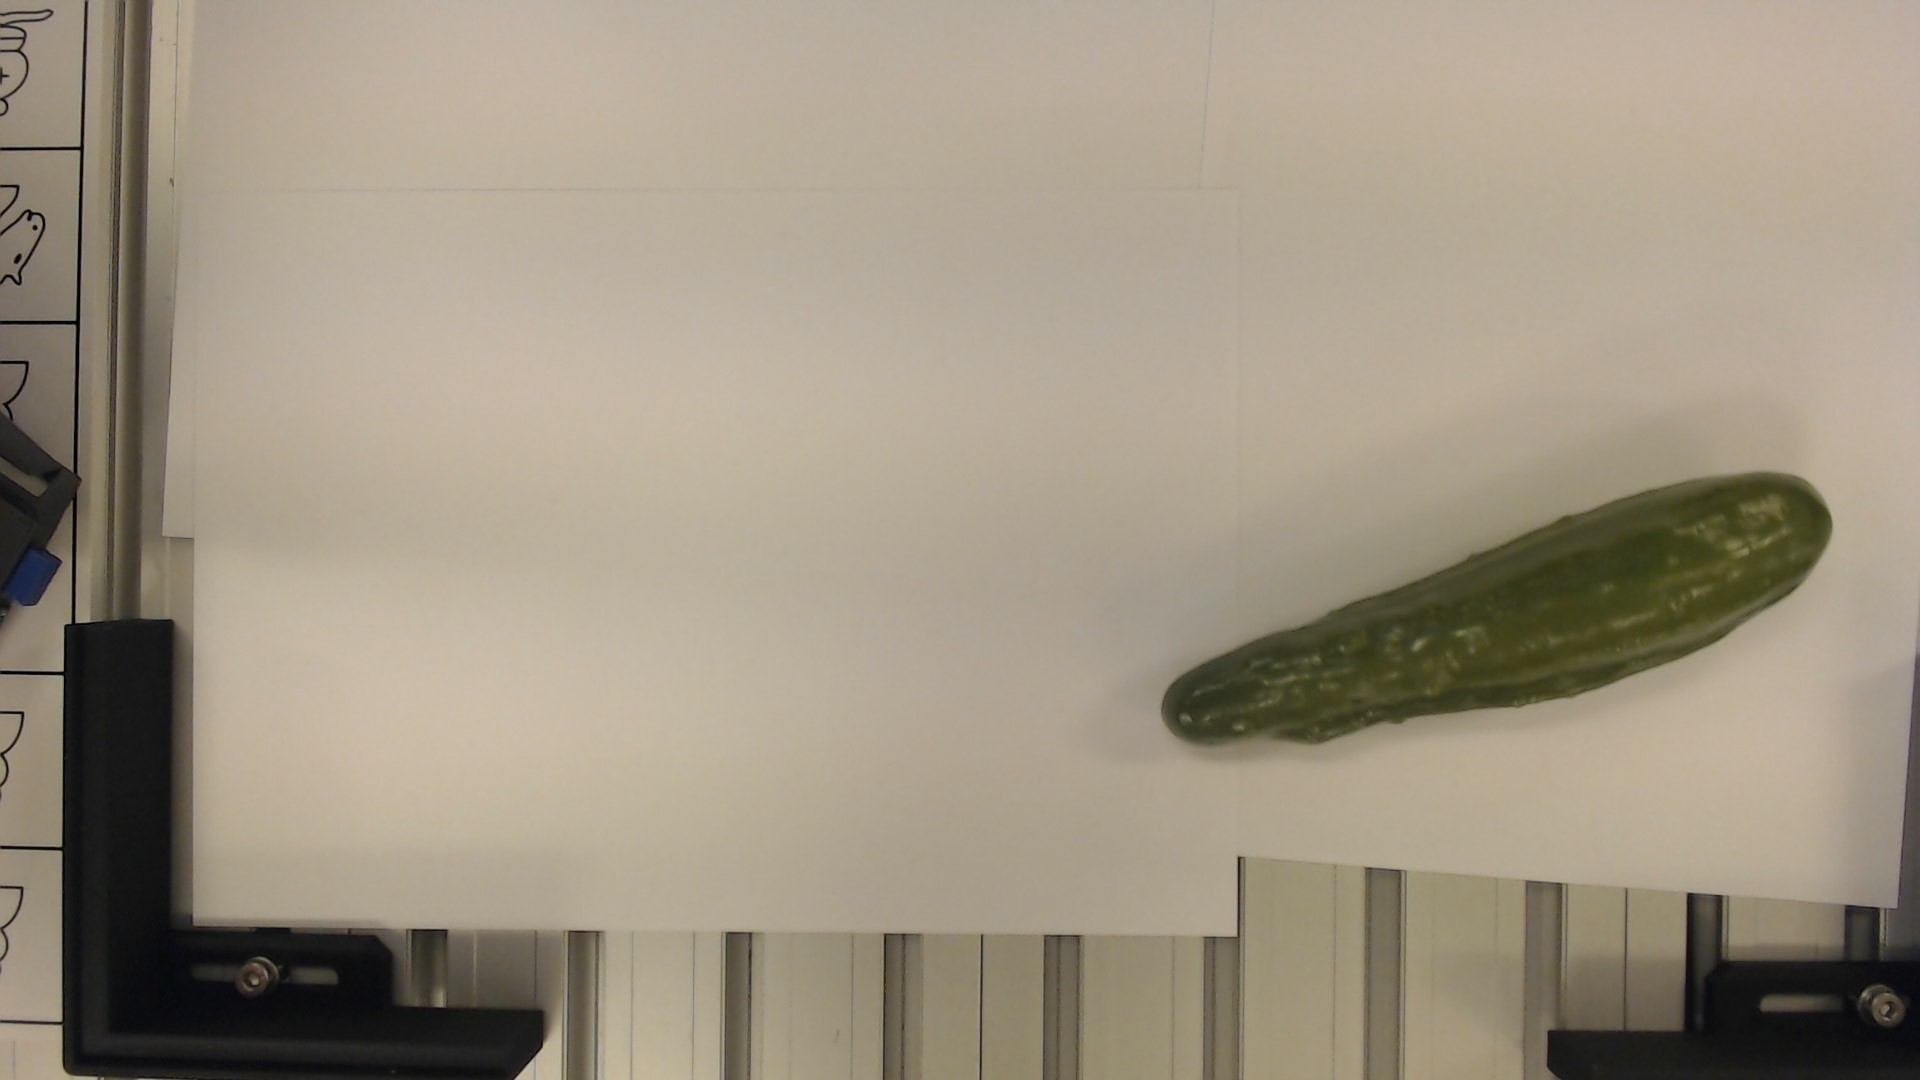Cucumber: (1160, 469, 1841, 753)
